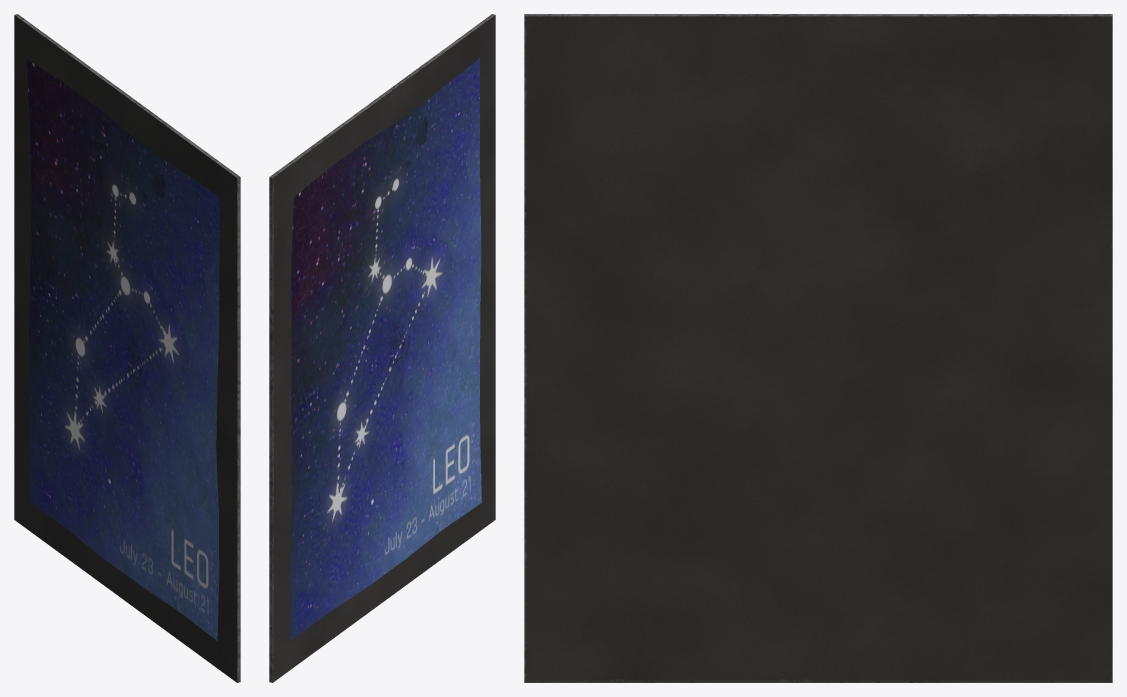
File: SM_Wall_Constellations_01a.fbx
3 renders of one model, left to right at view 1: azimuth 30°, elevation 25°; view 2: azimuth 150°, elevation 25°; view 3: azimuth 270°, elevation 25°, orthographic. The views are drawn at different scales.
Parts seen in each view (by area): view 1: SM_Wall_Constellations_01a_LOD0; view 2: SM_Wall_Constellations_01a_LOD0; view 3: SM_Wall_Constellations_01a_LOD0.
Part boxes in pixels (x1,y1,x2,y2): SM_Wall_Constellations_01a_LOD0: (14, 14, 240, 682); SM_Wall_Constellations_01a_LOD0: (269, 14, 495, 682); SM_Wall_Constellations_01a_LOD0: (524, 14, 1112, 682).
Size of the model in its own units: 0.8337 by 40 by 50.
Materials: 1 (1 with a texture image).
